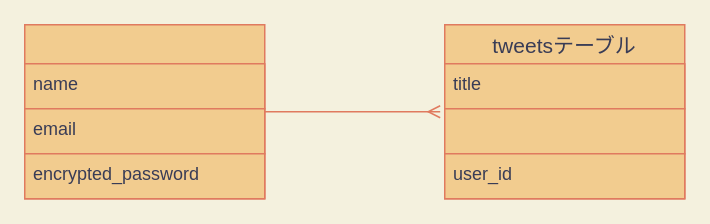
Some shapes in this 710 by 224 pixel diagram are drawn without their labels. Here are the shapes that lost their labels. From the top down, the box of each, then its label:
(23, 23, 265, 199): usersテーブル
(443, 107, 685, 154): text
